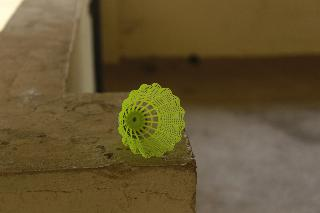shuttlecock: (118, 82, 184, 157)
